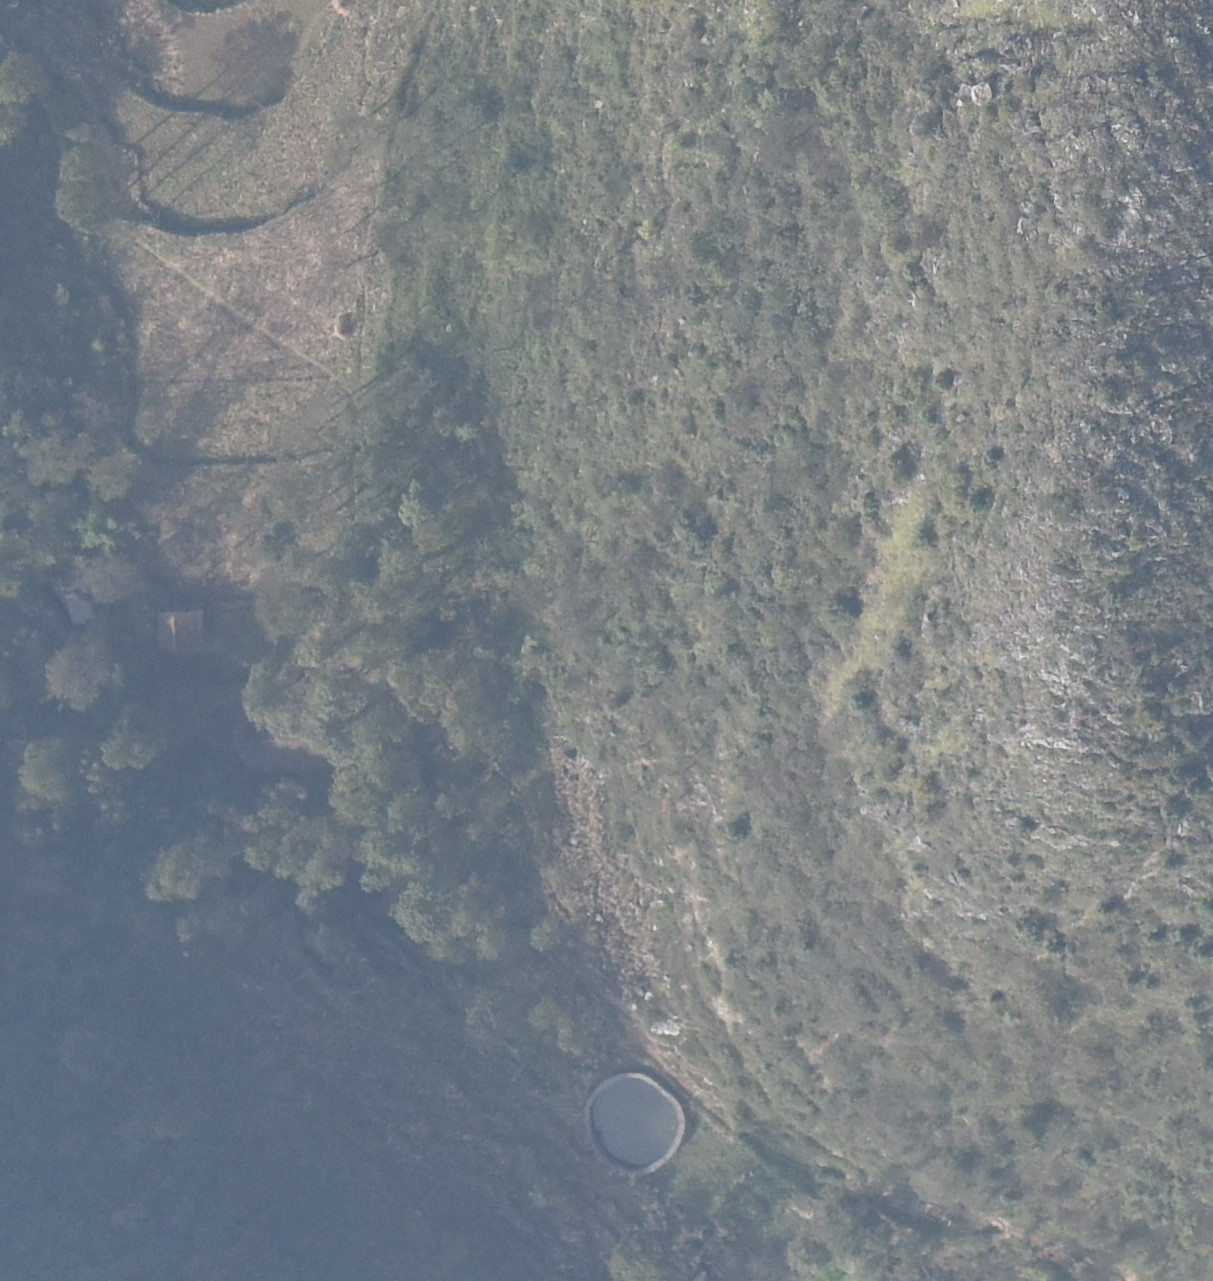pool: (584, 1073, 686, 1177)
